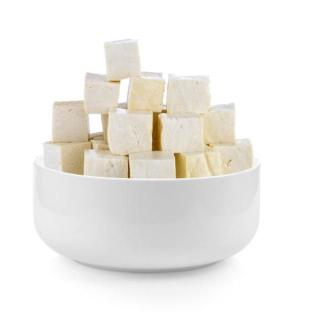Tahu: (45, 36, 261, 192)
